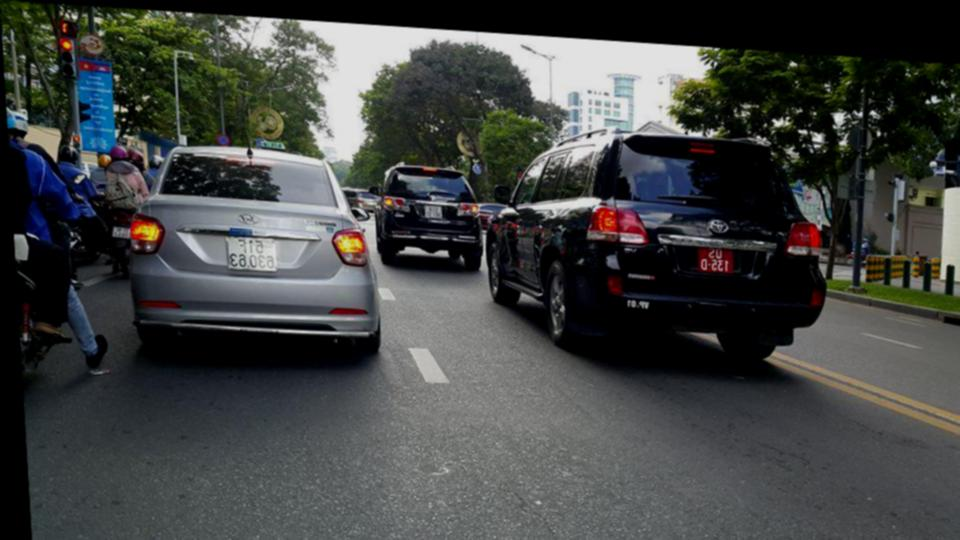License_Plate: (224, 234, 278, 273), (698, 245, 737, 274), (107, 222, 134, 242), (425, 205, 443, 219)
